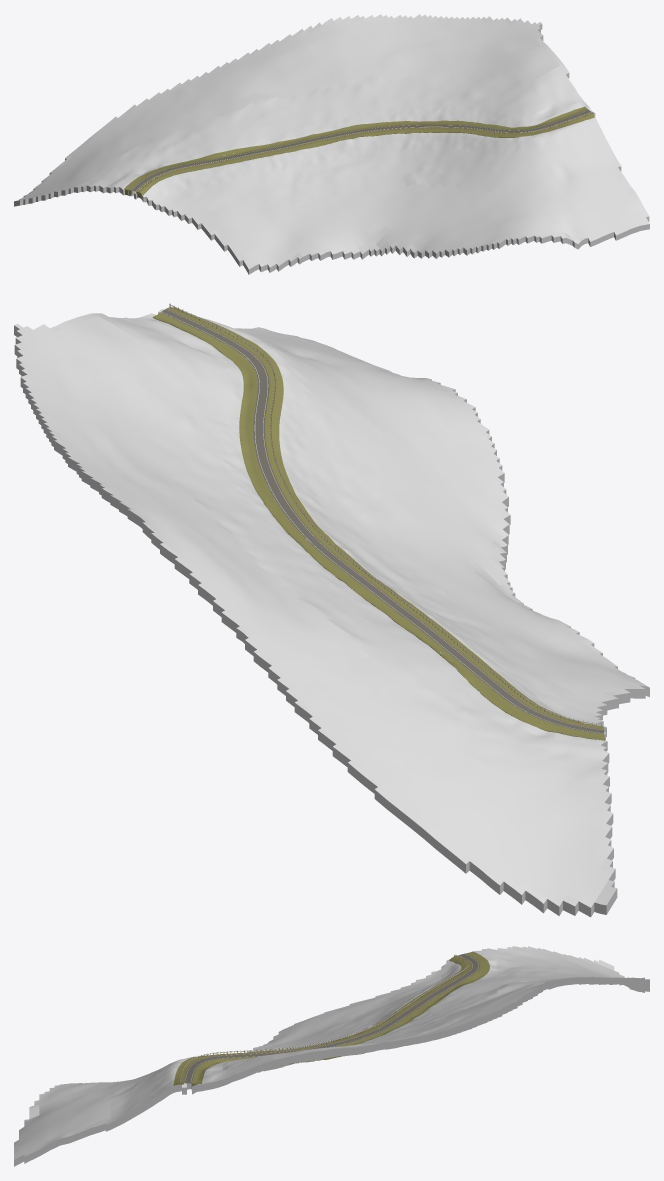
The model's file is conz_13.glb.
3 renders of one model, top to bottom at view 1: azimuth 30°, elevation 25°; view 2: azimuth 150°, elevation 25°; view 3: azimuth 270°, elevation 25°, orthographic. The views are drawn at different scales.
Visible parts, largest first — view 1: terrain13, verge13L, verge13R, road13, beam13_11040; view 2: terrain13, verge13R, road13, verge13L; view 3: terrain13, road13, verge13R, verge13L, posts13_11040, beam13_11040.
Boxes of the visible parts, x1,y1,x2,y2 form: terrain13: [14, 14, 649, 274]; verge13L: [136, 112, 594, 198]; verge13R: [124, 106, 588, 195]; road13: [131, 109, 590, 191]; beam13_11040: [139, 112, 592, 190]; terrain13: [14, 309, 649, 917]; verge13R: [152, 312, 604, 740]; road13: [160, 308, 604, 733]; verge13L: [167, 307, 603, 729]; terrain13: [14, 946, 649, 1166]; road13: [183, 953, 479, 1083]; verge13R: [191, 951, 489, 1090]; verge13L: [173, 956, 471, 1085]; posts13_11040: [178, 955, 467, 1084]; beam13_11040: [179, 955, 468, 1081].
Size of the model in its own units: 252 by 86.48 by 250.
